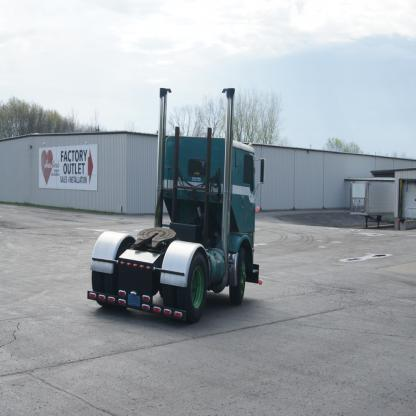Truck: (87, 88, 266, 323)
